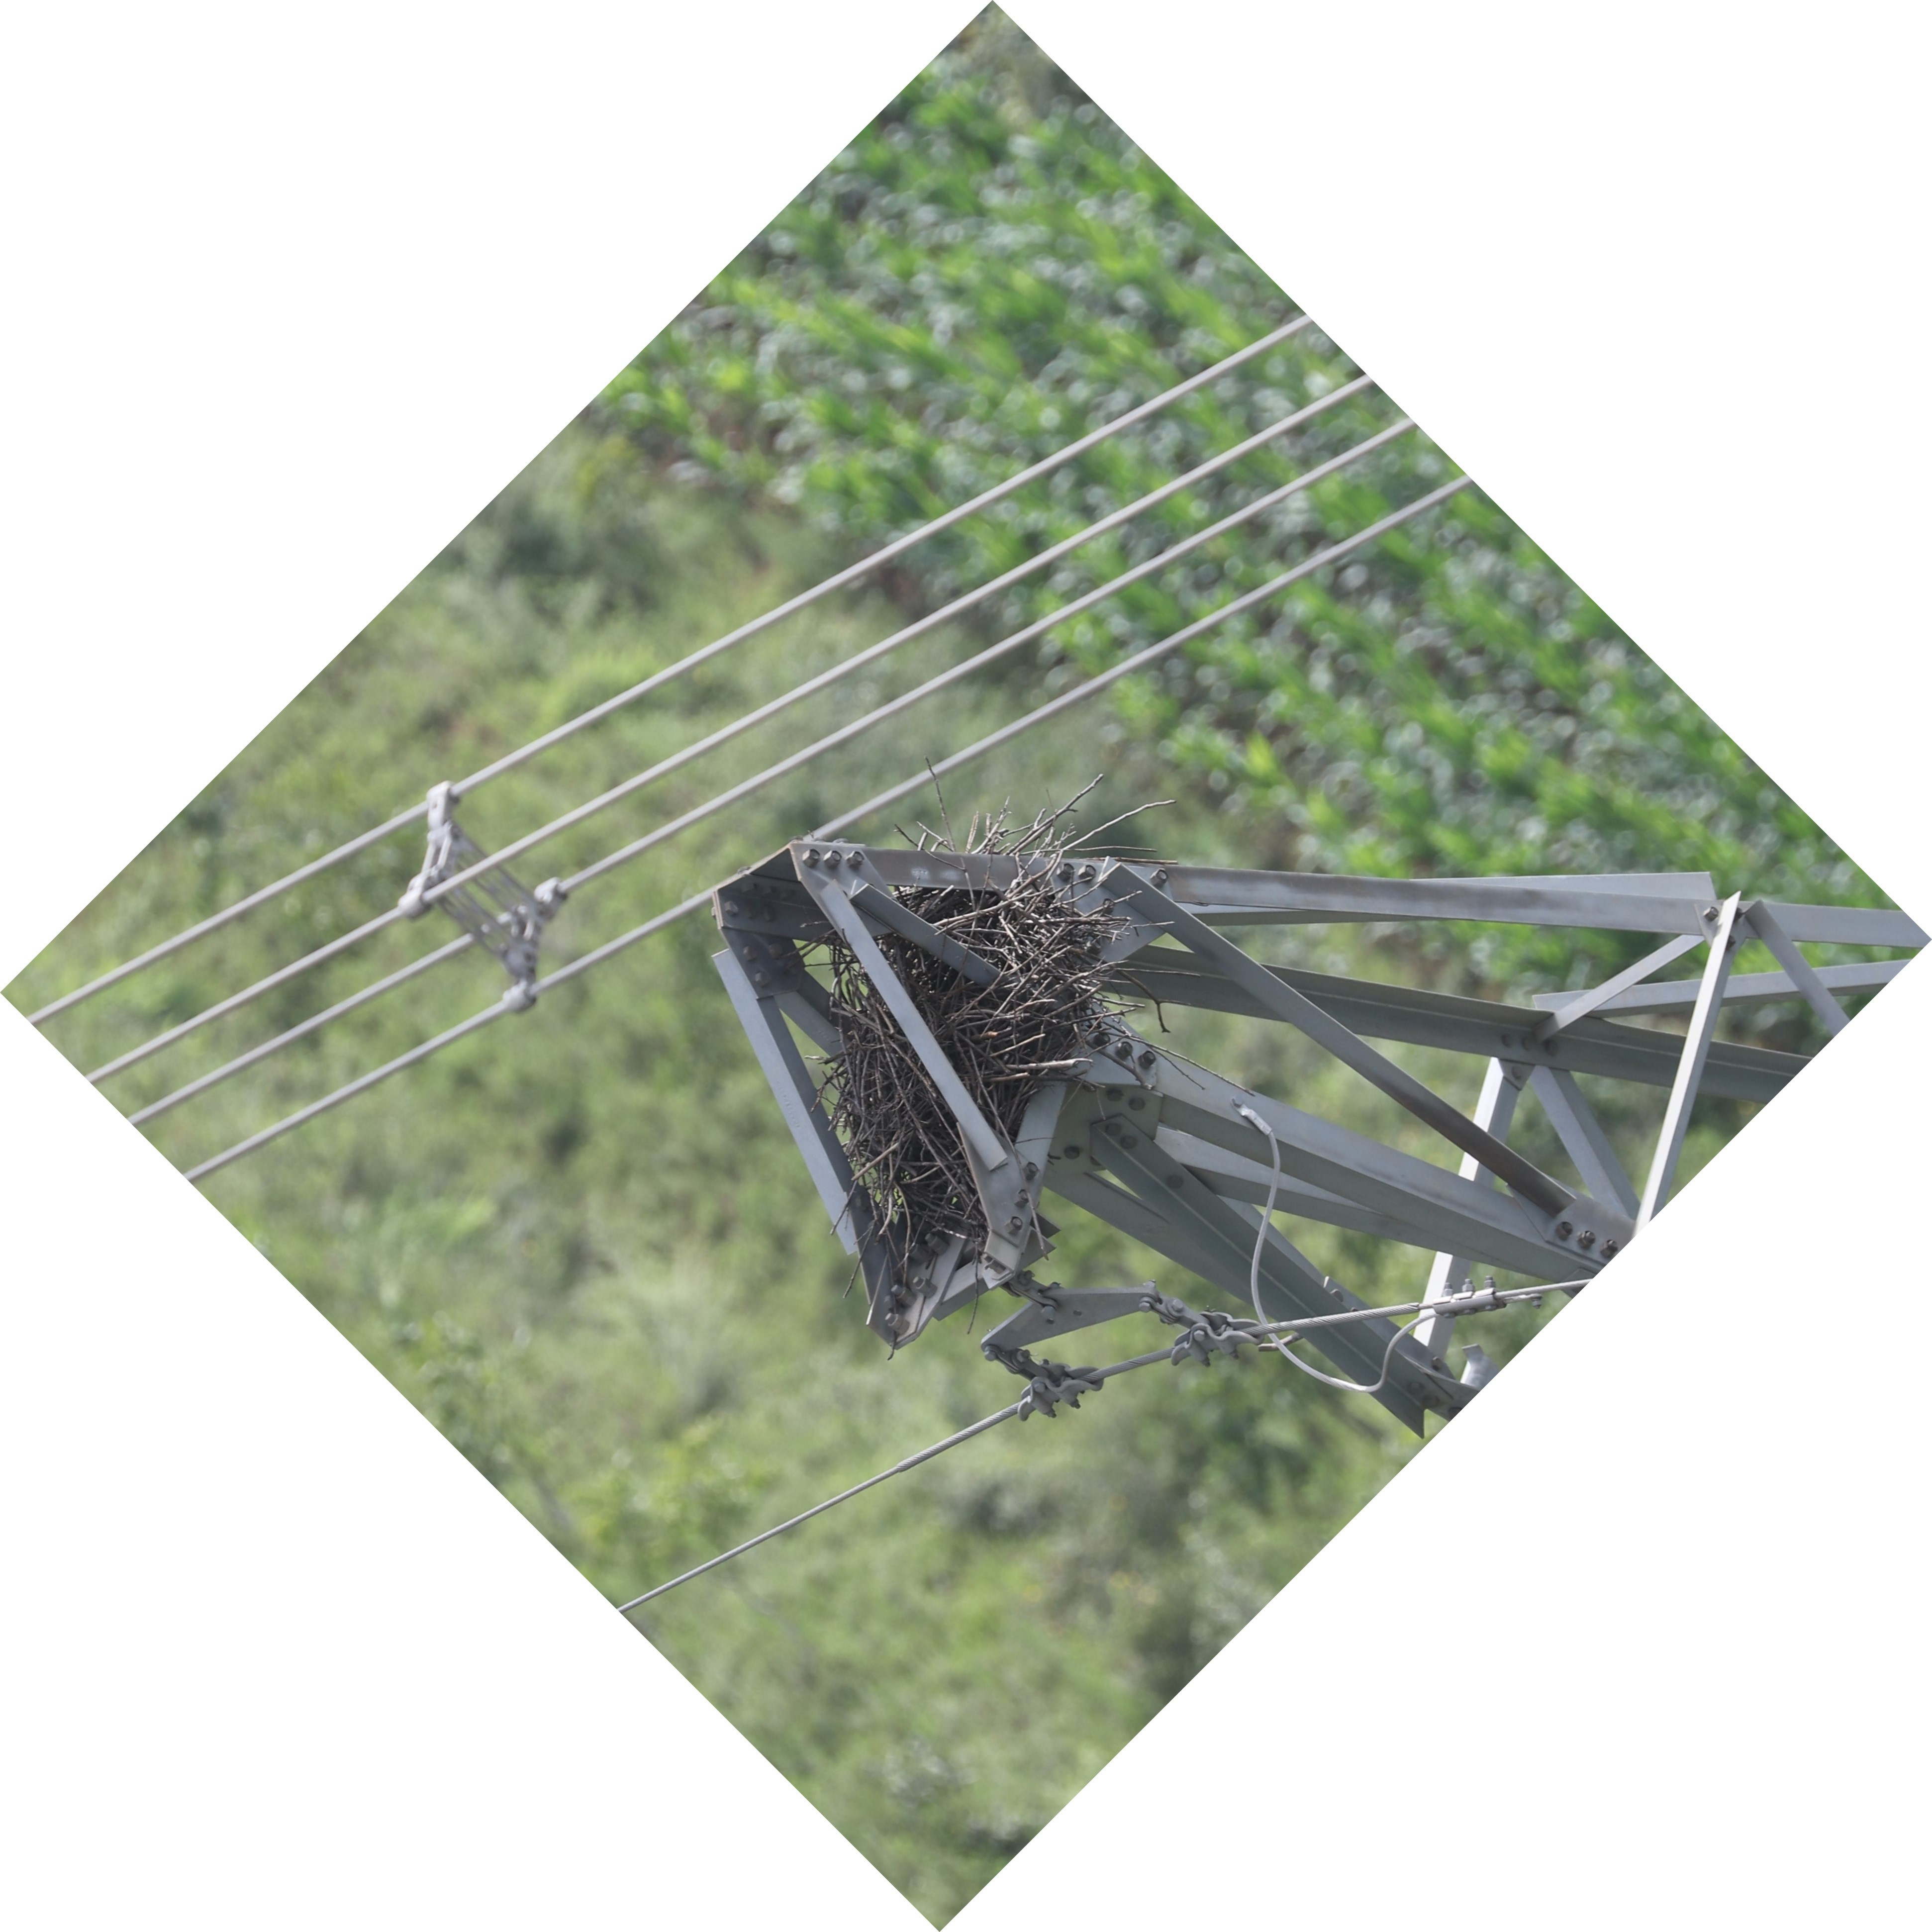niaowo: (740, 805, 1139, 1302)
